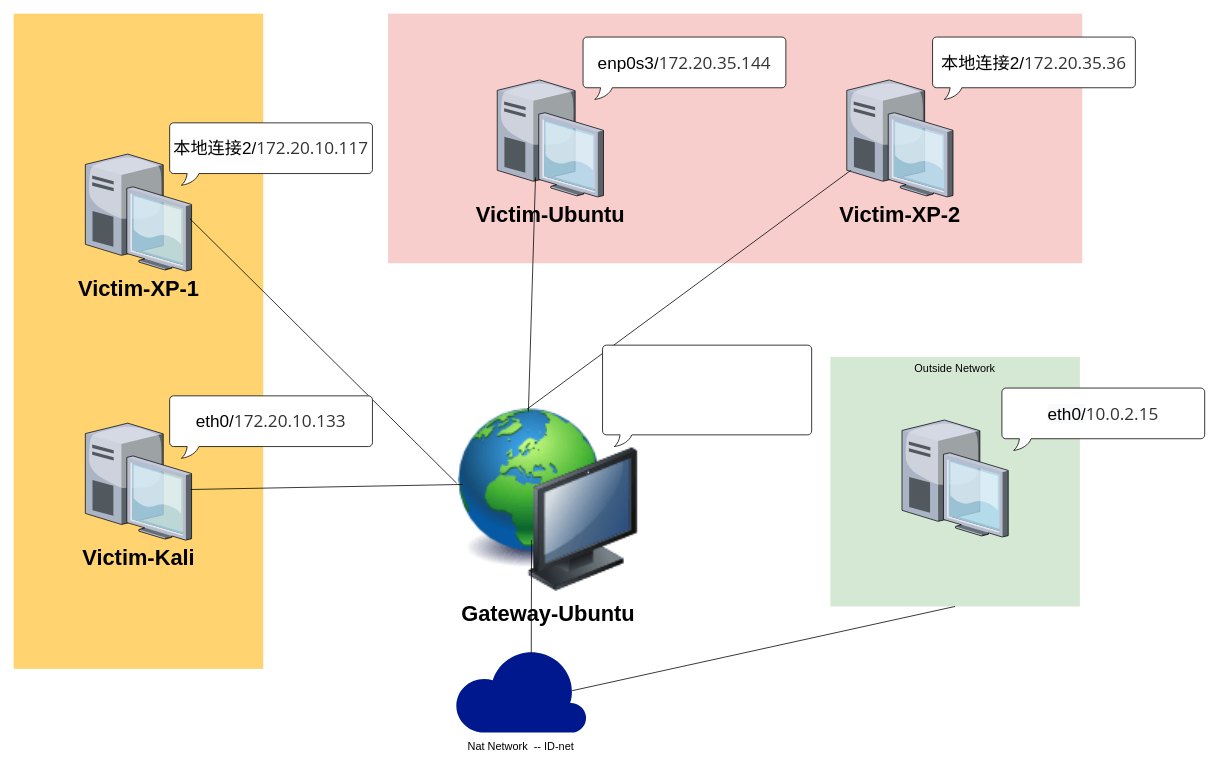
The diagram is 1218 pixels wide and 767 high, and some of its shapes have lost their labels. Each missing label, with the box of its shape:
Attacker-Kali: (902, 420, 1008, 537)
enp0s3/10.0.2.4 enp0s8/192.168.56.106 enp0s9/172.20.10.1 enp0s10/172.20.35.1: (602, 344, 812, 447)
Intnet -- intnet1: (13, 13, 263, 668)
Intnet -- Intnet2: (388, 13, 1082, 263)
